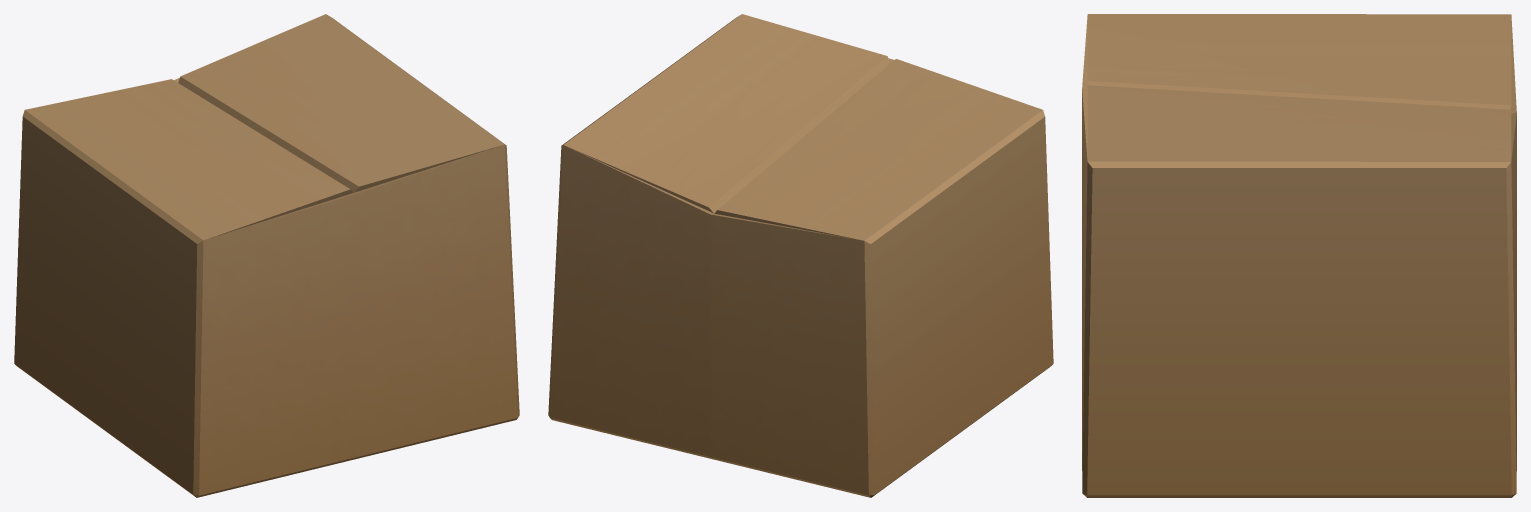
File: CardboardBox1.fbx
3 views of the same model, side by side, from view 1: azimuth 30°, elevation 25°; view 2: azimuth 150°, elevation 25°; view 3: azimuth 270°, elevation 25° (orthographic). The views are drawn at different scales.
Parts seen in each view (by area): view 1: Box1; view 2: Box1; view 3: Box1.
Boxes of the visible parts, x1=… form: Box1: x1=14, y1=14, x2=519, y2=497; Box1: x1=548, y1=14, x2=1053, y2=497; Box1: x1=1082, y1=14, x2=1516, y2=497.
Bounding box in the file's own units: 103 × 83.78 × 100.
